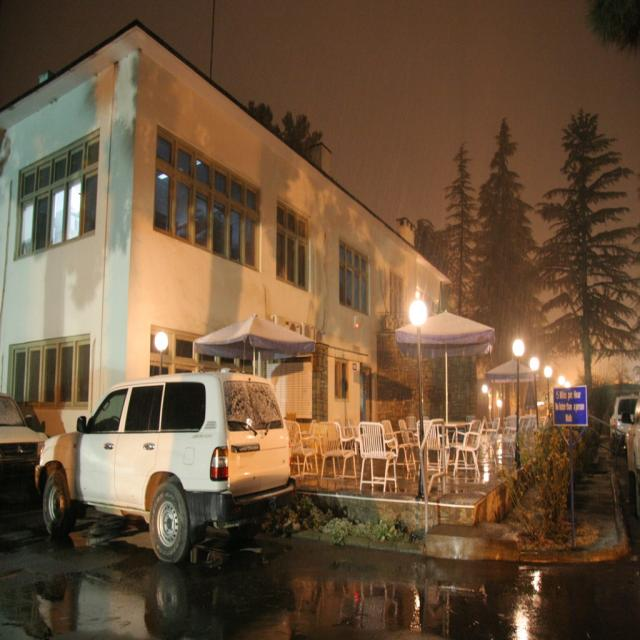car: (31, 358, 292, 576)
